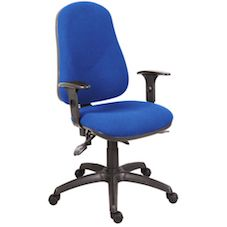chair: (29, 0, 189, 225)
